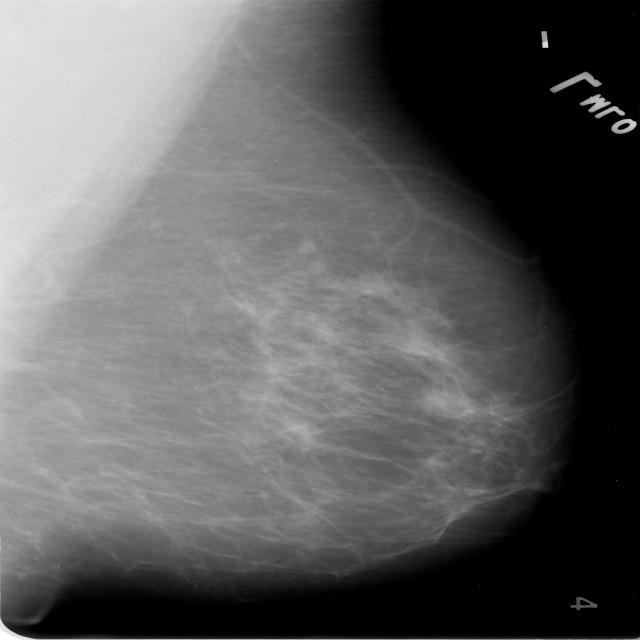cancer: (244, 273, 509, 444), (411, 481, 502, 552)
